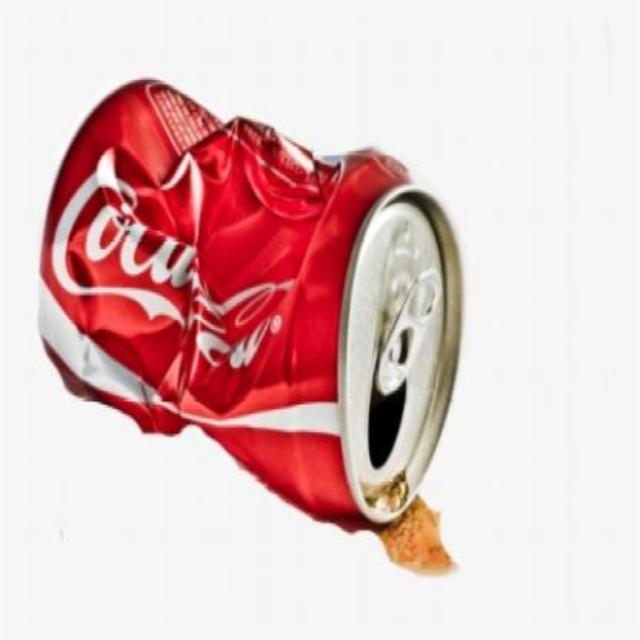metal: (37, 78, 458, 526)
